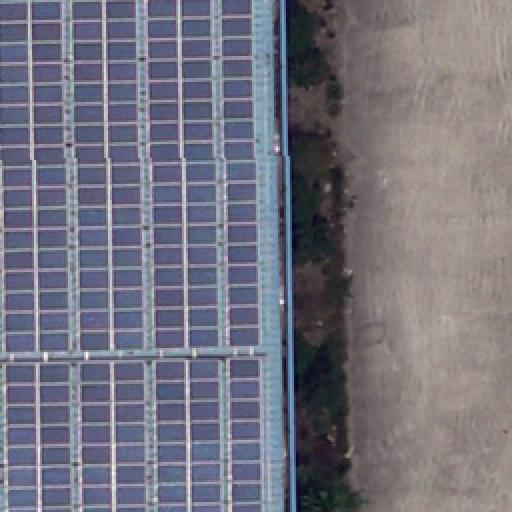solar-panel: (0, 0, 282, 512)
